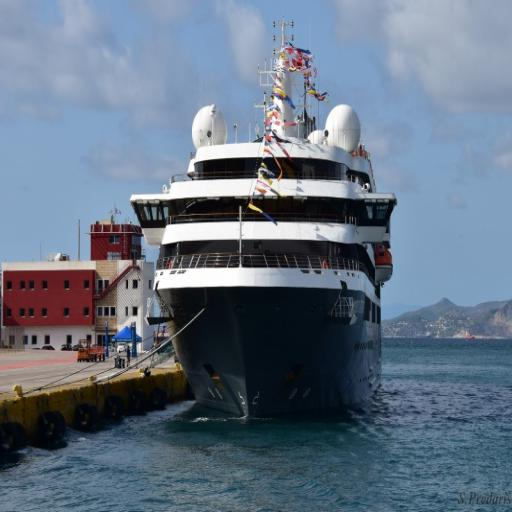cruises: (116, 16, 418, 444)
